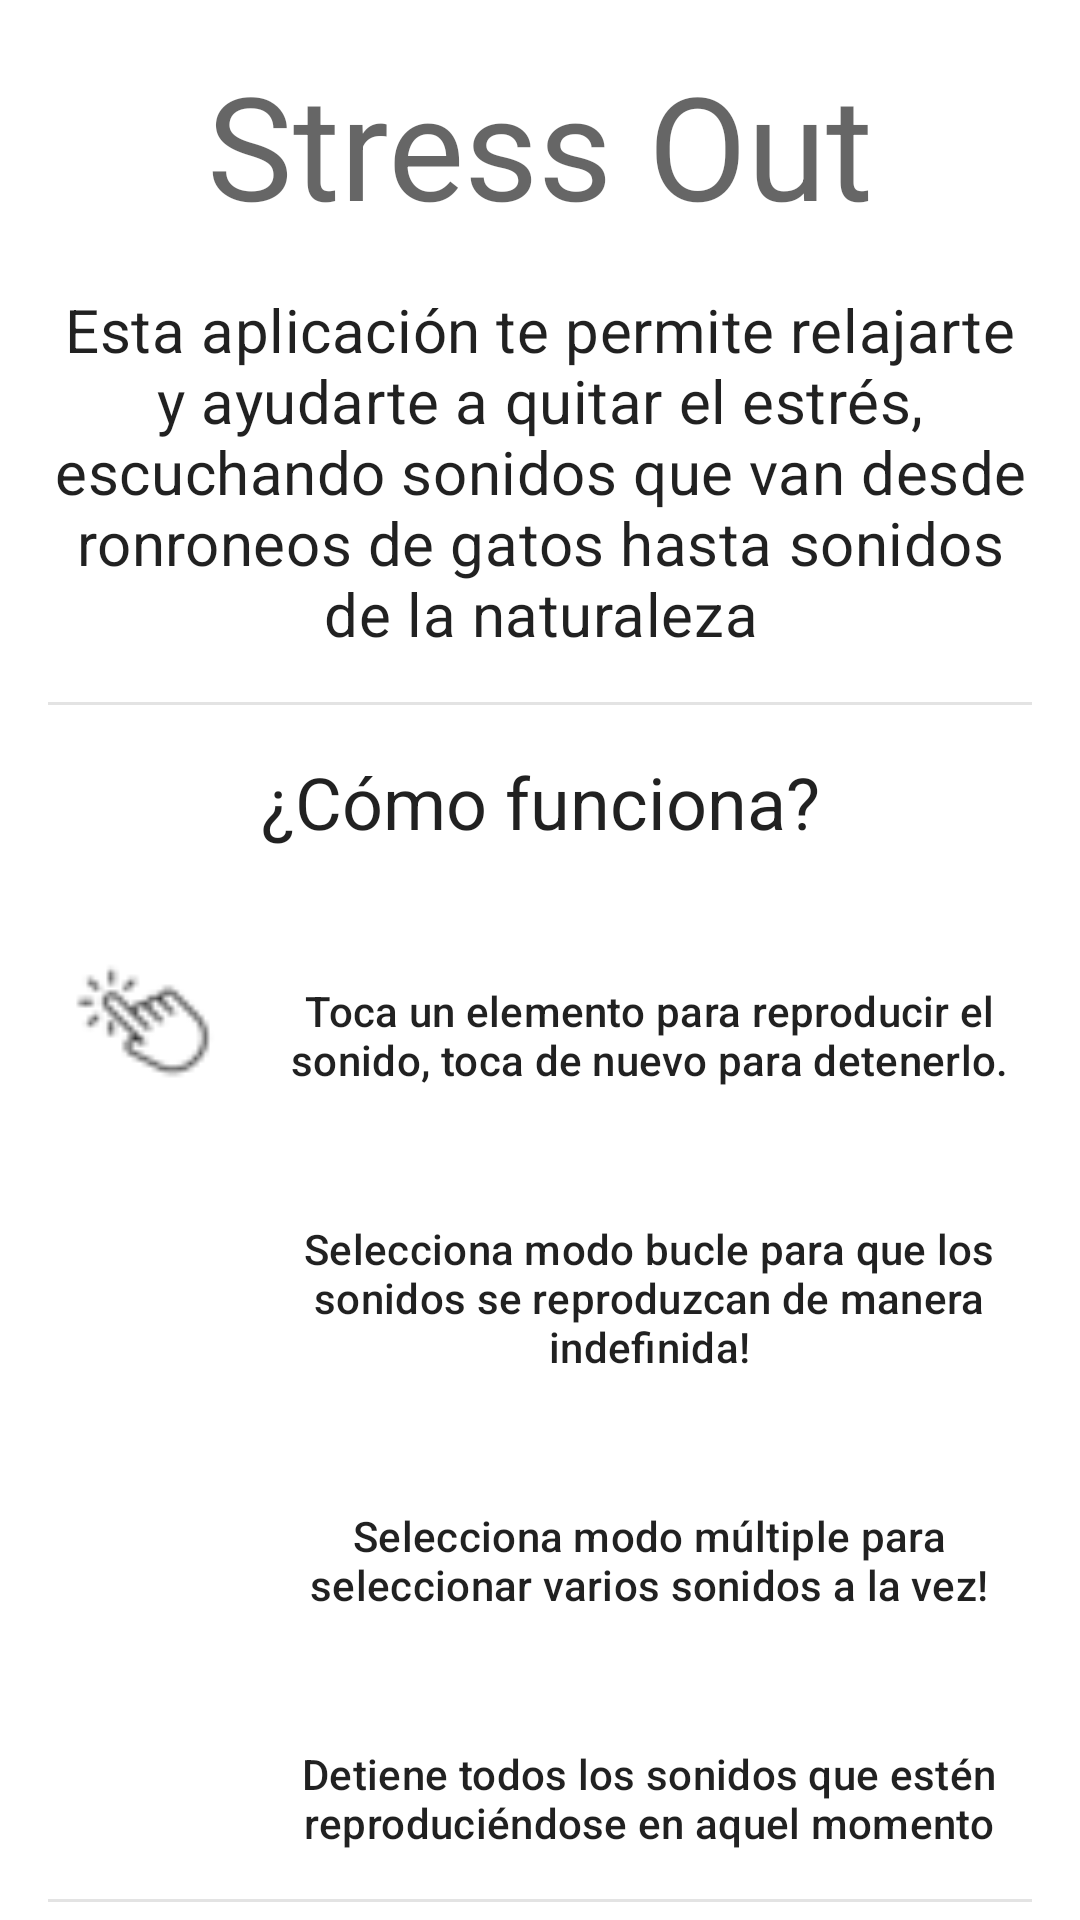

Locate icon controls on the screen. Image size 1080px×1920px, boxes as (left=x1, top=y1, right=x2, bottom=y2).
click: (left=77, top=969, right=210, bottom=1076)
